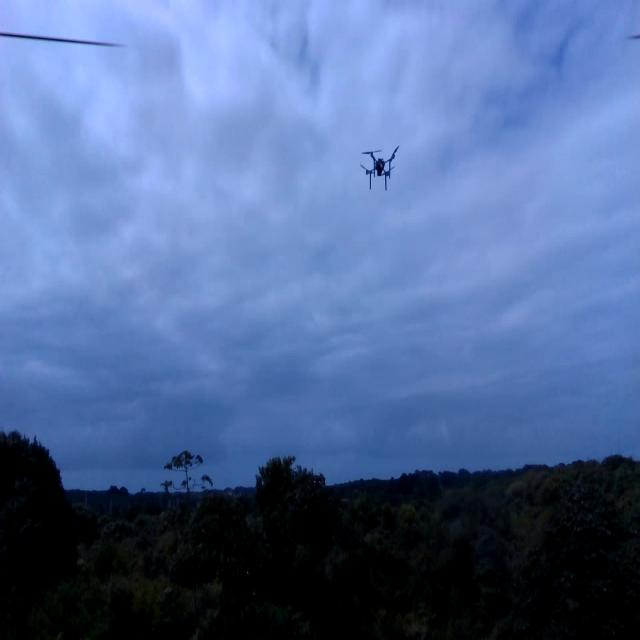-uav-: (354, 135, 402, 195)
